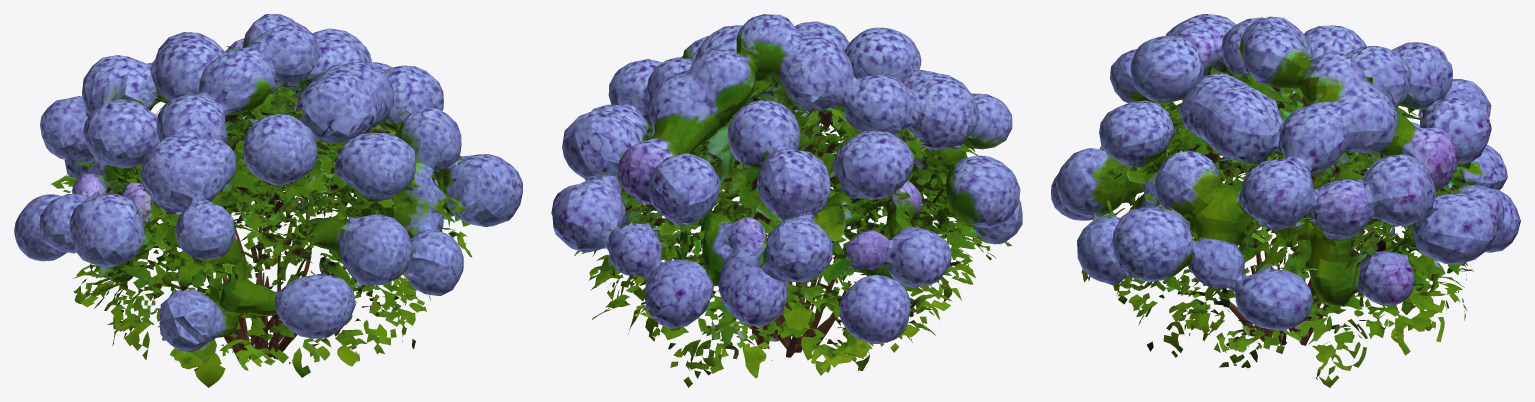
Rendered from raw_meshy_model.glb.
3 renders of one model, left to right at view 1: azimuth 30°, elevation 25°; view 2: azimuth 150°, elevation 25°; view 3: azimuth 270°, elevation 25°, orthographic.
Bounding box in the file's own units: 1.86 × 1.4 × 1.88.
Materials: 1 (1 with a texture image).
